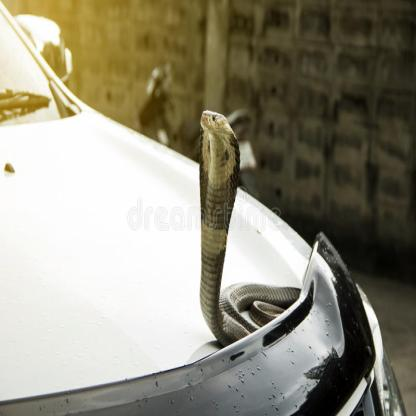Snake: (194, 104, 298, 336)
